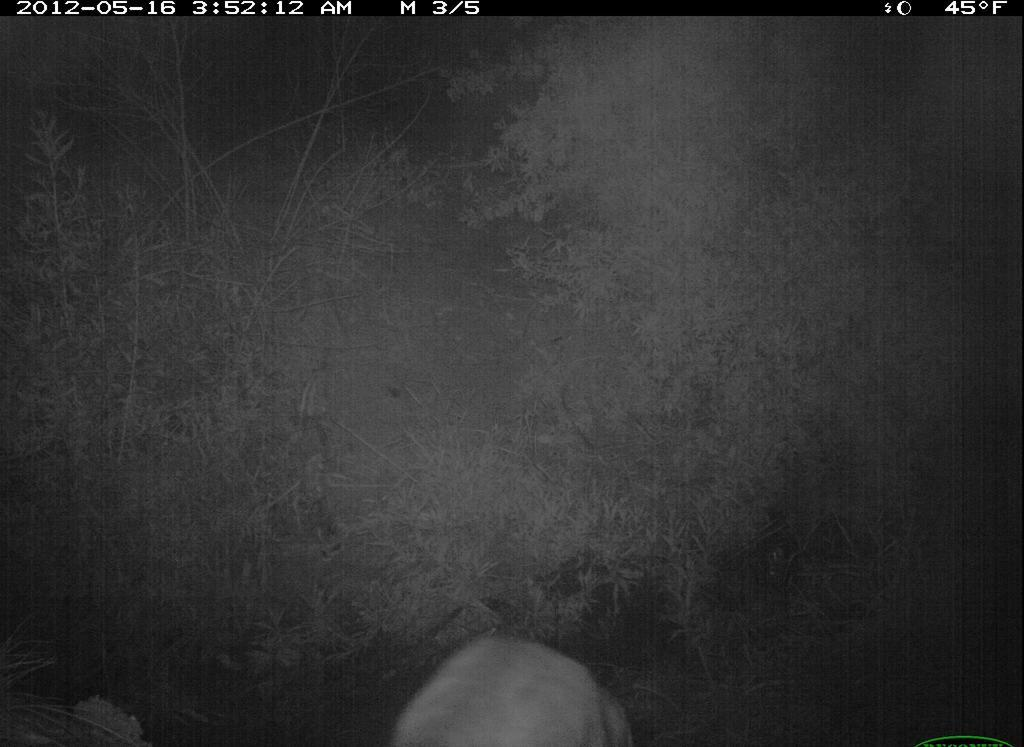cat: (382, 620, 644, 747)
